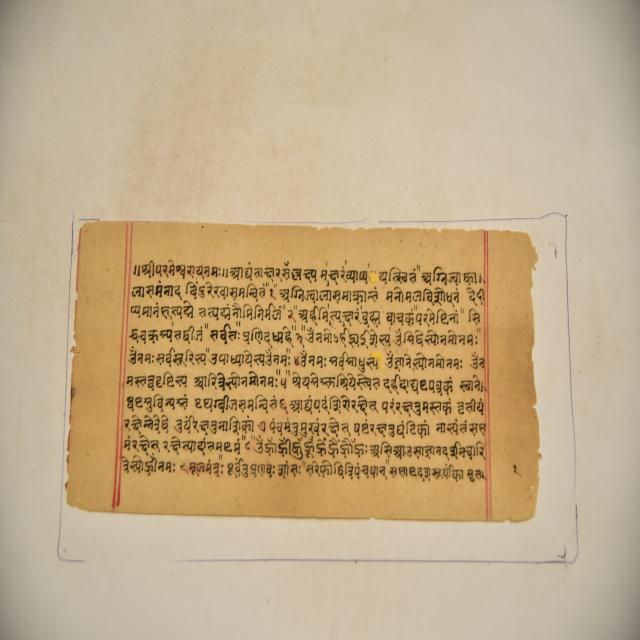text_paragraph: (66, 224, 535, 520)
